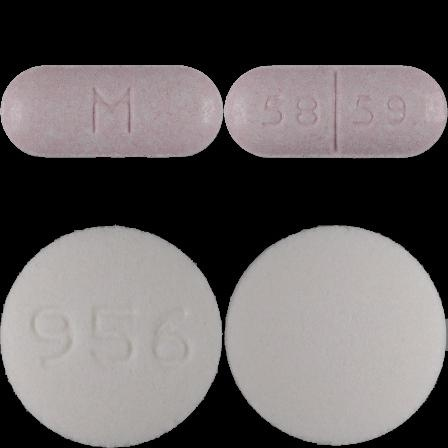61919-346: (0, 0, 224, 224)
